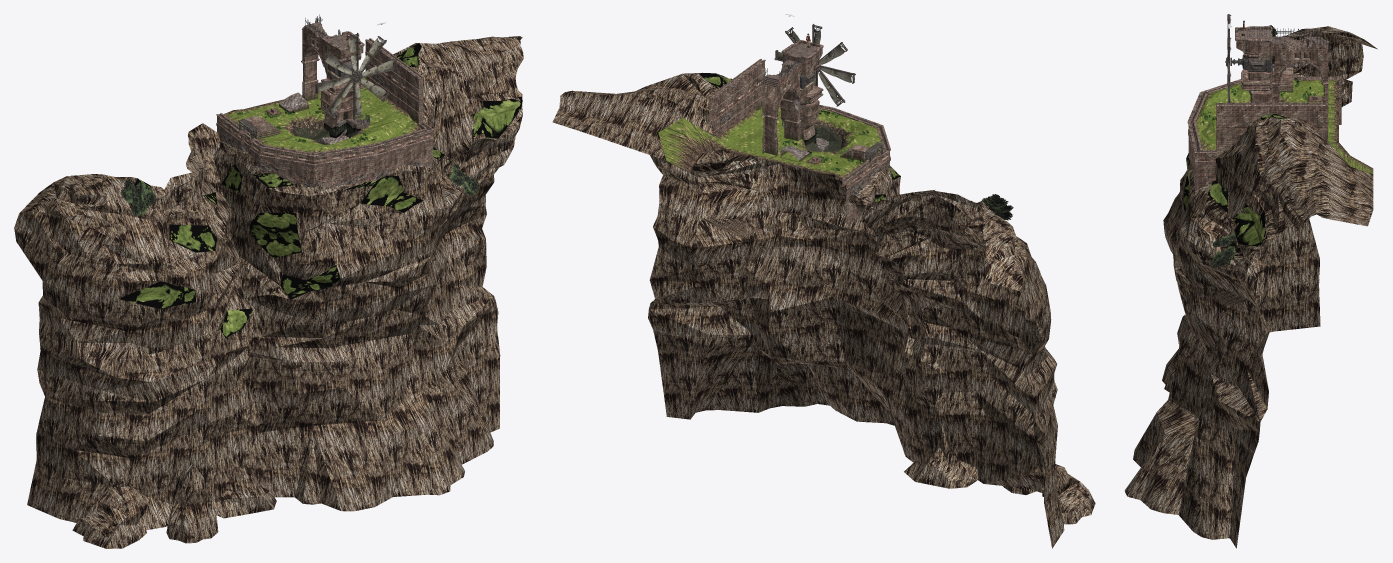
File: world.fbx
3 views of the same model, side by side, from view 1: azimuth 30°, elevation 25°; view 2: azimuth 150°, elevation 25°; view 3: azimuth 270°, elevation 25° (orthographic). The views are drawn at different scales.
Visible parts, largest first — view 1: st09a_p2, windmill, windmill_2; view 2: st09a_p2, windmill_2; view 3: st09a_p2.
Boxes of the visible parts, bbox=[...] form: st09a_p2: bbox=[14, 14, 523, 548]; windmill: bbox=[314, 33, 397, 120]; windmill_2: bbox=[322, 36, 389, 116]; st09a_p2: bbox=[552, 40, 1095, 548]; windmill_2: bbox=[785, 27, 847, 106]; st09a_p2: bbox=[1124, 25, 1377, 548].
Bounding box in the file's own units: 7126 × 6082 × 2994.
